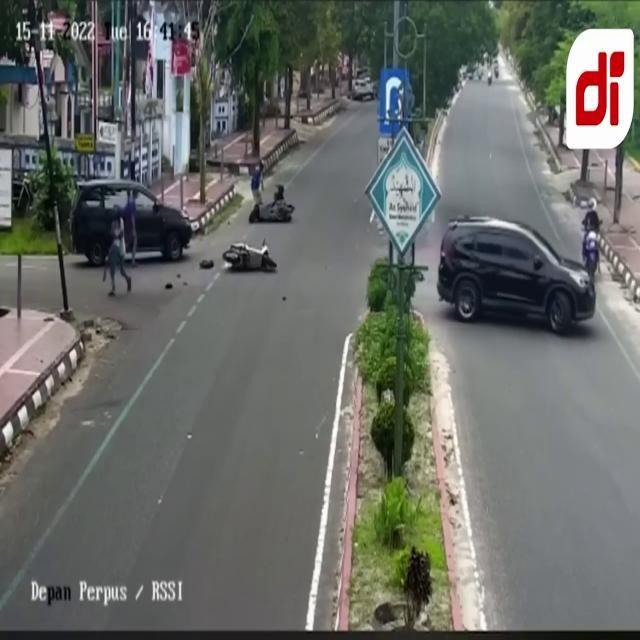multiple_accident: (68, 127, 345, 337)
